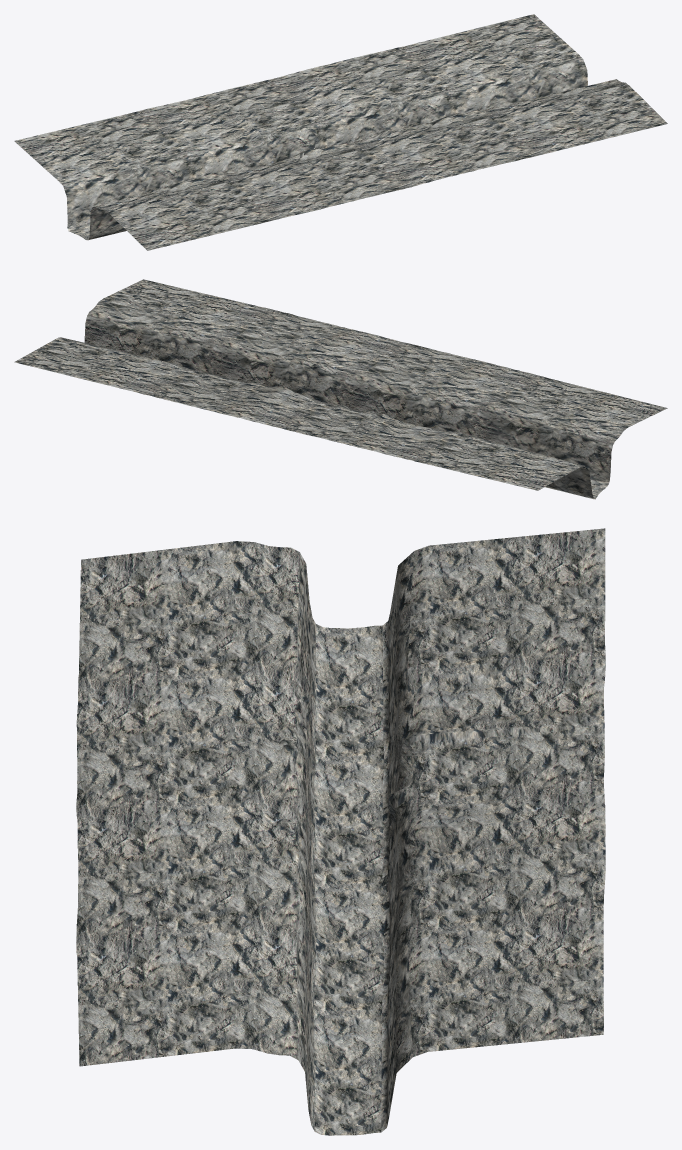
File: ground.fbx
3 renders of one model, top to bottom at view 1: azimuth 30°, elevation 25°; view 2: azimuth 150°, elevation 25°; view 3: azimuth 270°, elevation 25°, orthographic. The views are drawn at different scales.
Visible parts, largest first — view 1: Plane; view 2: Plane; view 3: Plane.
Boxes of the visible parts, x1,y1,x2,y2 form: Plane: (14, 14, 667, 250); Plane: (14, 279, 667, 499); Plane: (76, 528, 605, 1135).
Bounding box in the file's own units: 59.27 × 5.39 × 25.88.
1 material, 1 textured.
